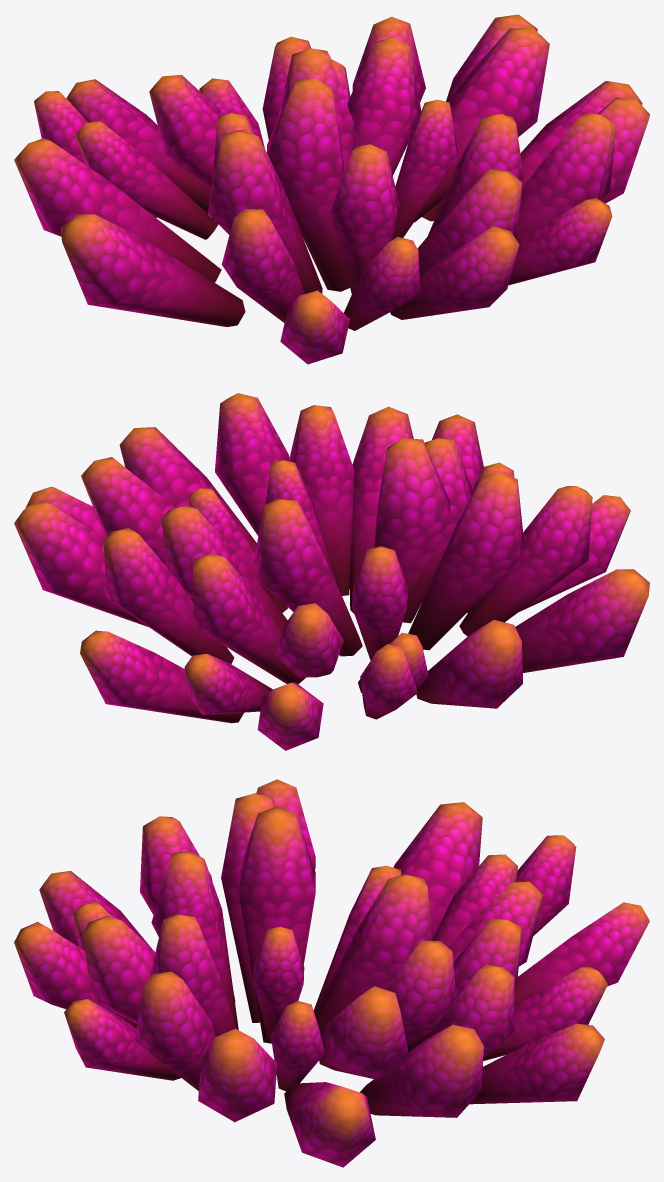
The model's file is Coral_11d.FBX.
The picture shows the model from 3 angles, top to bottom: view 1: azimuth 30°, elevation 25°; view 2: azimuth 150°, elevation 25°; view 3: azimuth 270°, elevation 25°; orthographic projection. The views are drawn at different scales.
Parts seen in each view (by area): view 1: Coral_11d; view 2: Coral_11d; view 3: Coral_11d.
Part boxes in pixels (left/top/right/bottom): Coral_11d: left=14, top=14, right=649, bottom=364; Coral_11d: left=14, top=393, right=649, bottom=750; Coral_11d: left=14, top=779, right=649, bottom=1167.
Size of the model in its own units: 73.7 by 28.42 by 65.62.
